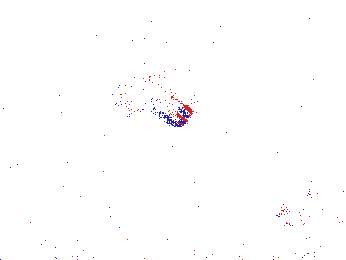flame jellyfish: (111, 60, 193, 128), (284, 160, 329, 213)
